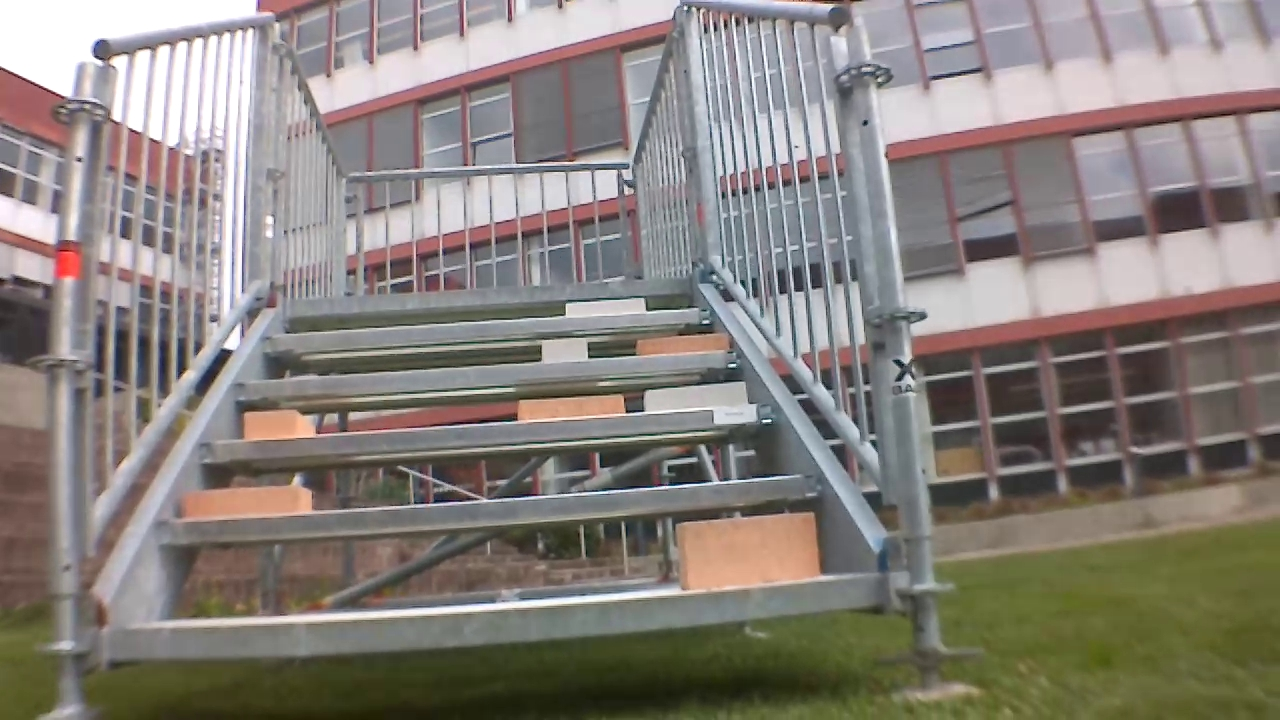brick: (667, 513, 816, 599), (179, 483, 321, 519), (507, 395, 629, 422), (647, 381, 746, 411), (633, 329, 733, 358), (235, 412, 321, 438), (564, 298, 651, 315), (544, 340, 594, 362)
edge: (107, 571, 901, 663), (168, 463, 833, 549), (201, 403, 785, 462), (226, 353, 749, 400), (252, 305, 717, 354), (282, 272, 697, 314)
stairs: (63, 7, 935, 692)
steps: (108, 272, 882, 671)
